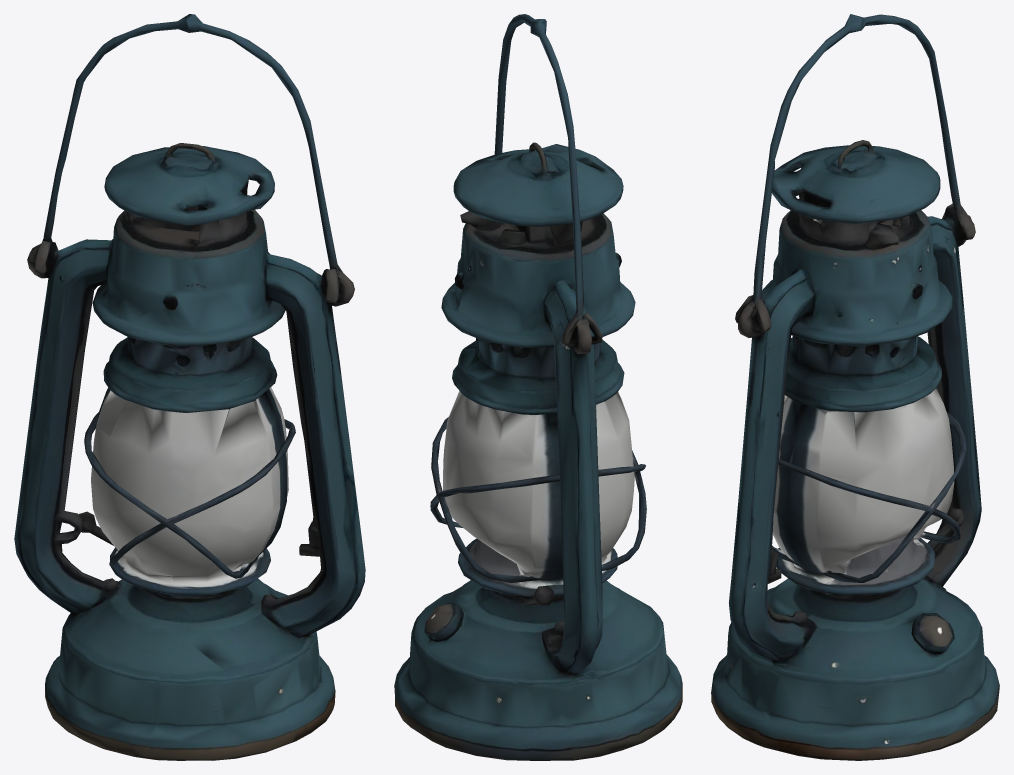
Rendered from prop-lantern.glb.
3 views of the same model, side by side, from view 1: azimuth 30°, elevation 25°; view 2: azimuth 150°, elevation 25°; view 3: azimuth 270°, elevation 25° (orthographic).
Visible parts, largest first — view 1: tripo_node_7a11a575-7214-416d-8f0f-c3768616c6bf; view 2: tripo_node_7a11a575-7214-416d-8f0f-c3768616c6bf; view 3: tripo_node_7a11a575-7214-416d-8f0f-c3768616c6bf.
Boxes of the visible parts, x1=… form: tripo_node_7a11a575-7214-416d-8f0f-c3768616c6bf: x1=14, y1=14, x2=365, y2=760; tripo_node_7a11a575-7214-416d-8f0f-c3768616c6bf: x1=394, y1=14, x2=682, y2=760; tripo_node_7a11a575-7214-416d-8f0f-c3768616c6bf: x1=711, y1=14, x2=999, y2=760.
Bounding box in the file's own units: 0.3802 × 1 × 0.3814.
1 material, 1 textured.
